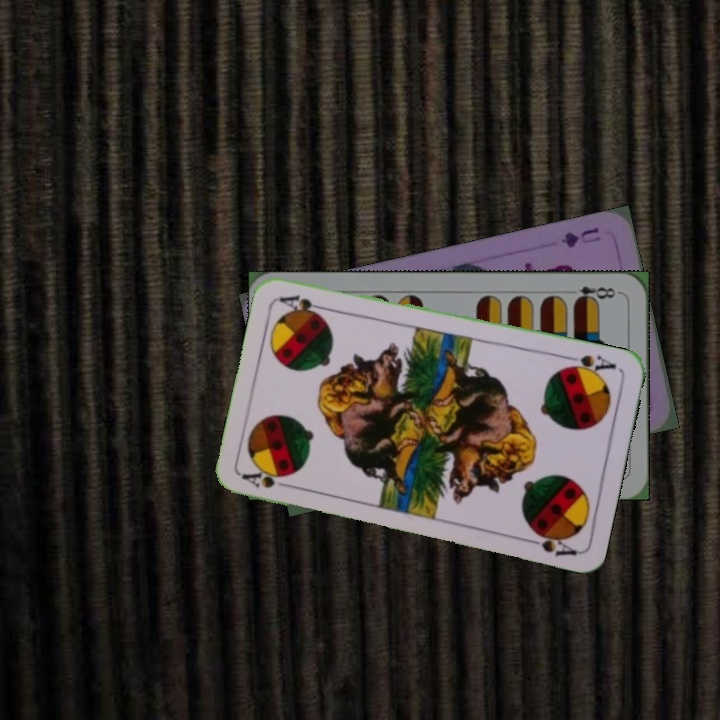E8: (563, 282, 622, 305)
GU: (557, 222, 603, 251)
SA: (560, 351, 619, 379), (238, 466, 297, 491)
